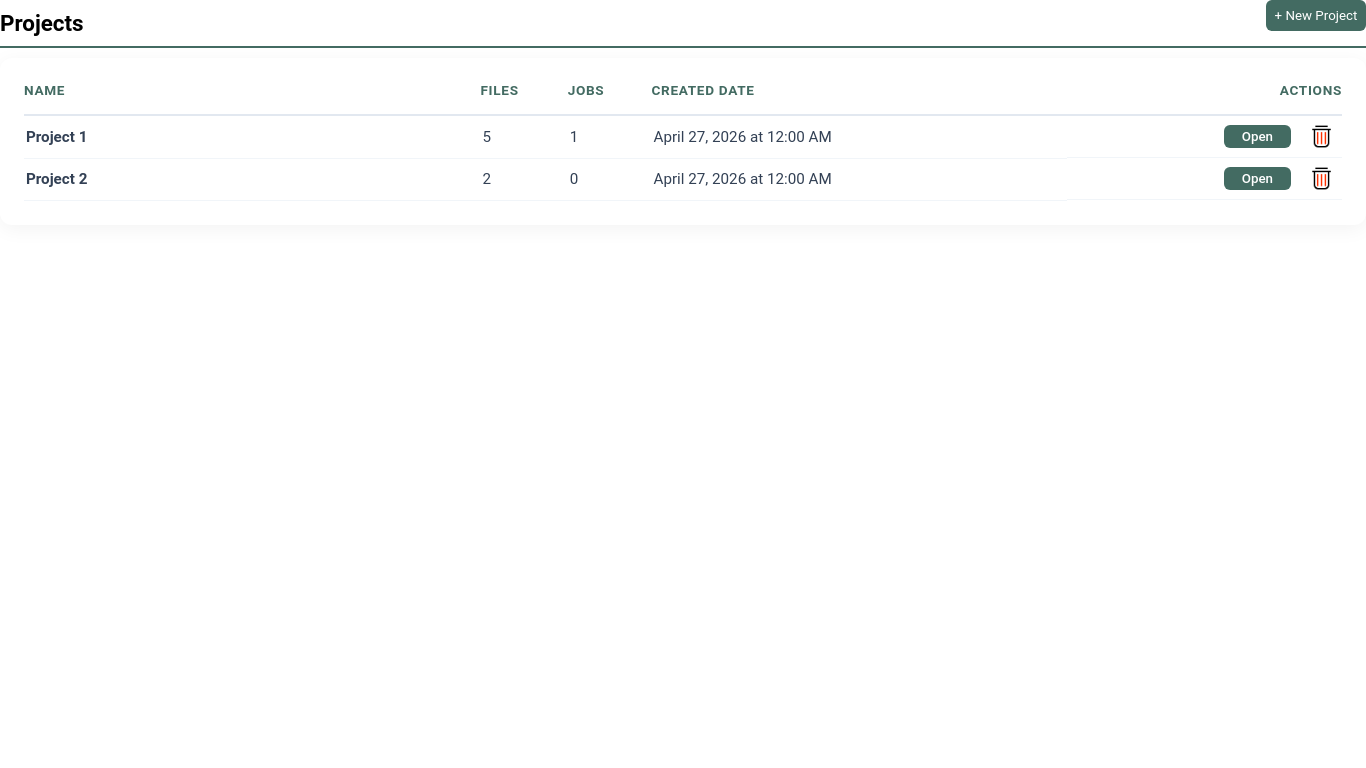
Test case: ProjectList Component › should open delete confirmation and remove project from list
Click the button named "delete project" at (1322, 136), box [1303,118,1340,155]
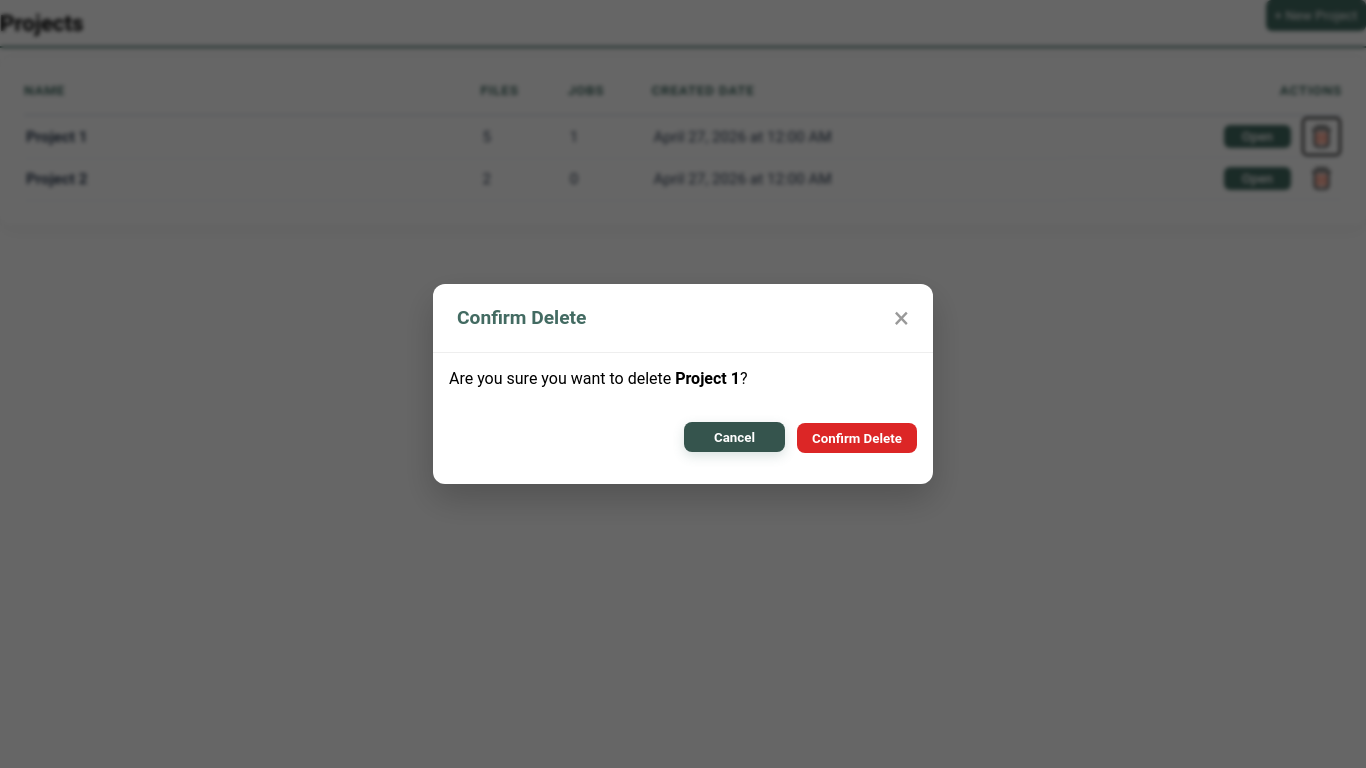
Now the text "Are you sure you want to delete Project 1?" is shown, box [449,369,748,388]
Click the button "Confirm Delete" at (857, 438), box [797,424,917,454]
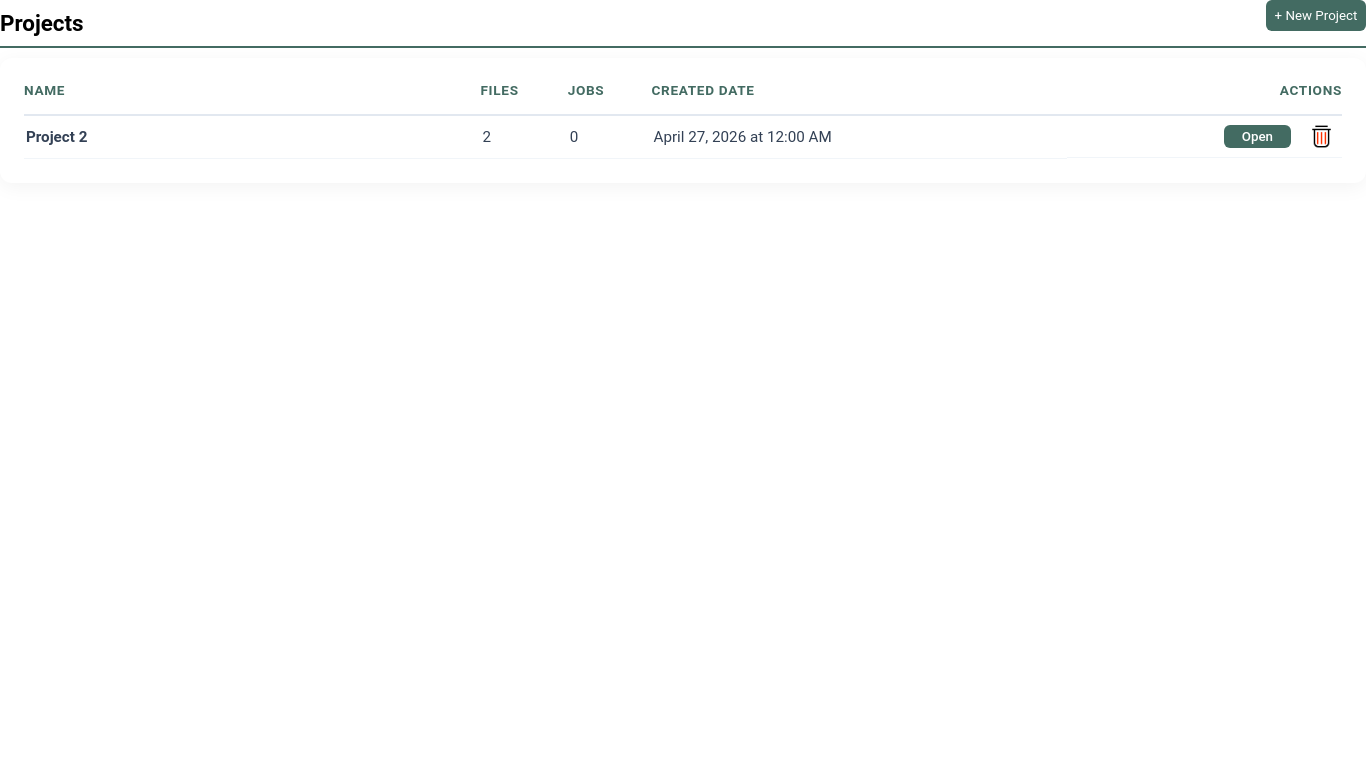
Now the text "Project 1" is gone
